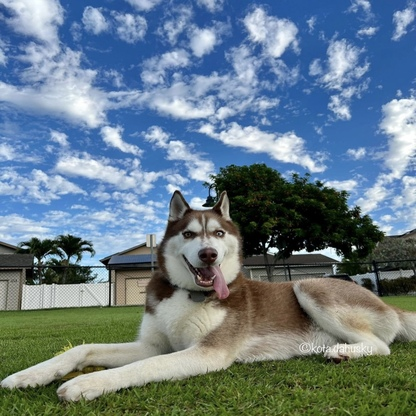husky: (3, 184, 416, 408)
